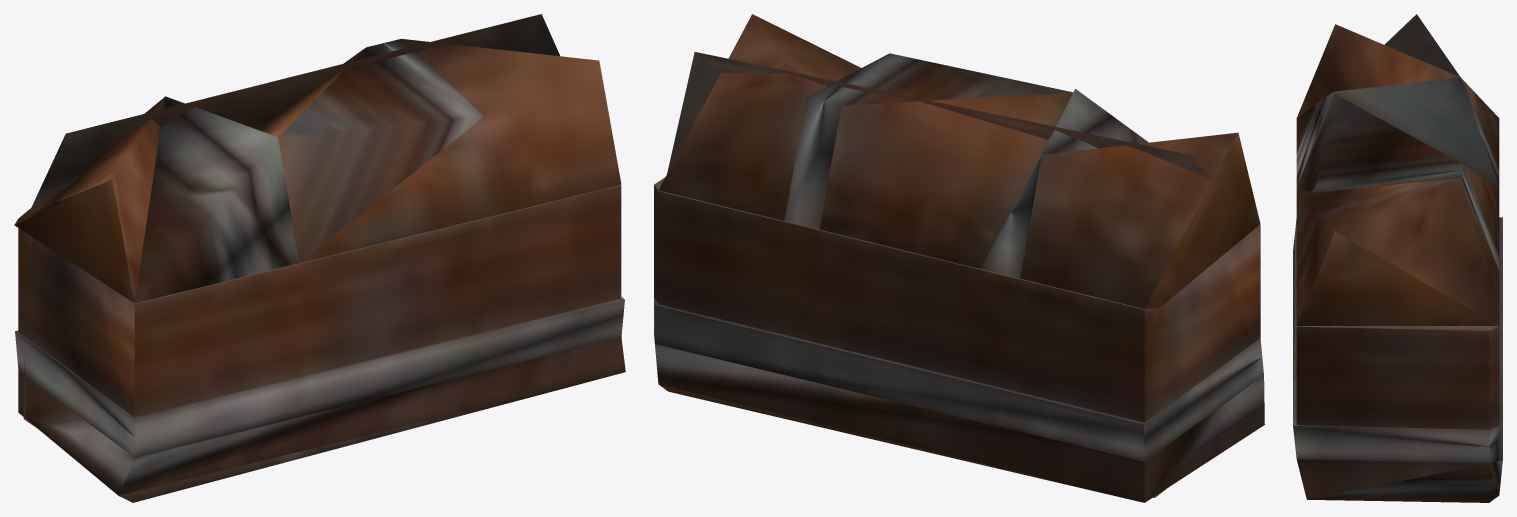
The picture shows the model from 3 angles, left to right: view 1: azimuth 30°, elevation 25°; view 2: azimuth 150°, elevation 25°; view 3: azimuth 270°, elevation 25°; orthographic projection. The views are drawn at different scales.
Visible parts, largest first — view 1: chest; view 2: chest; view 3: chest.
Part boxes in pixels (bbox=[...]): chest: bbox=[14, 14, 625, 502]; chest: bbox=[654, 14, 1264, 502]; chest: bbox=[1293, 14, 1502, 502].
Size of the model in its own units: 0.8561 by 0.5231 by 0.3514.
Materials: 1 (1 with a texture image).
